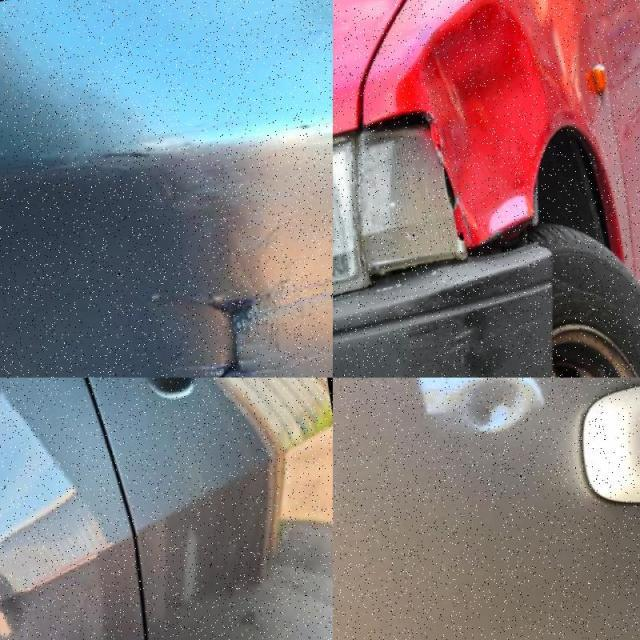car damage: (394, 0, 563, 236), (417, 370, 546, 429), (205, 297, 263, 362)
